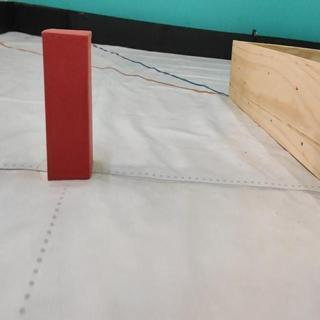redbox: (41, 28, 96, 182)
